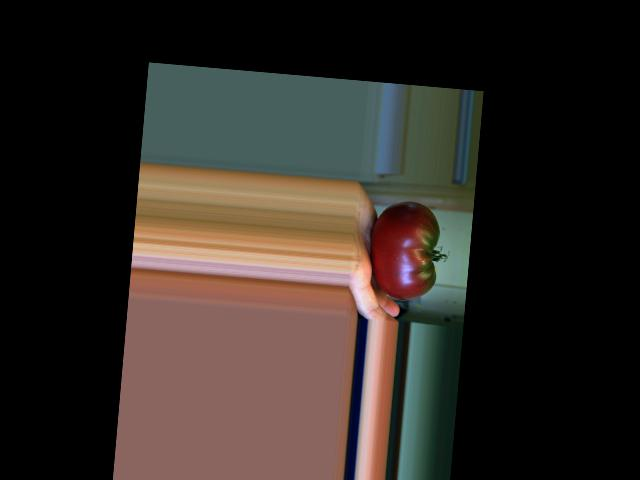tomato: (366, 198, 442, 302)
